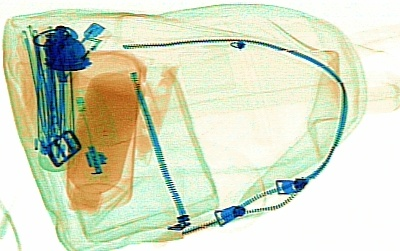lighter: (40, 21, 112, 95)
